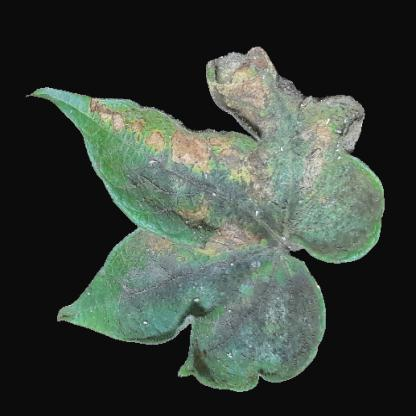sooty: (202, 262, 306, 367), (165, 152, 291, 233), (295, 139, 373, 257), (120, 255, 202, 333), (236, 65, 296, 133), (119, 147, 165, 215)
